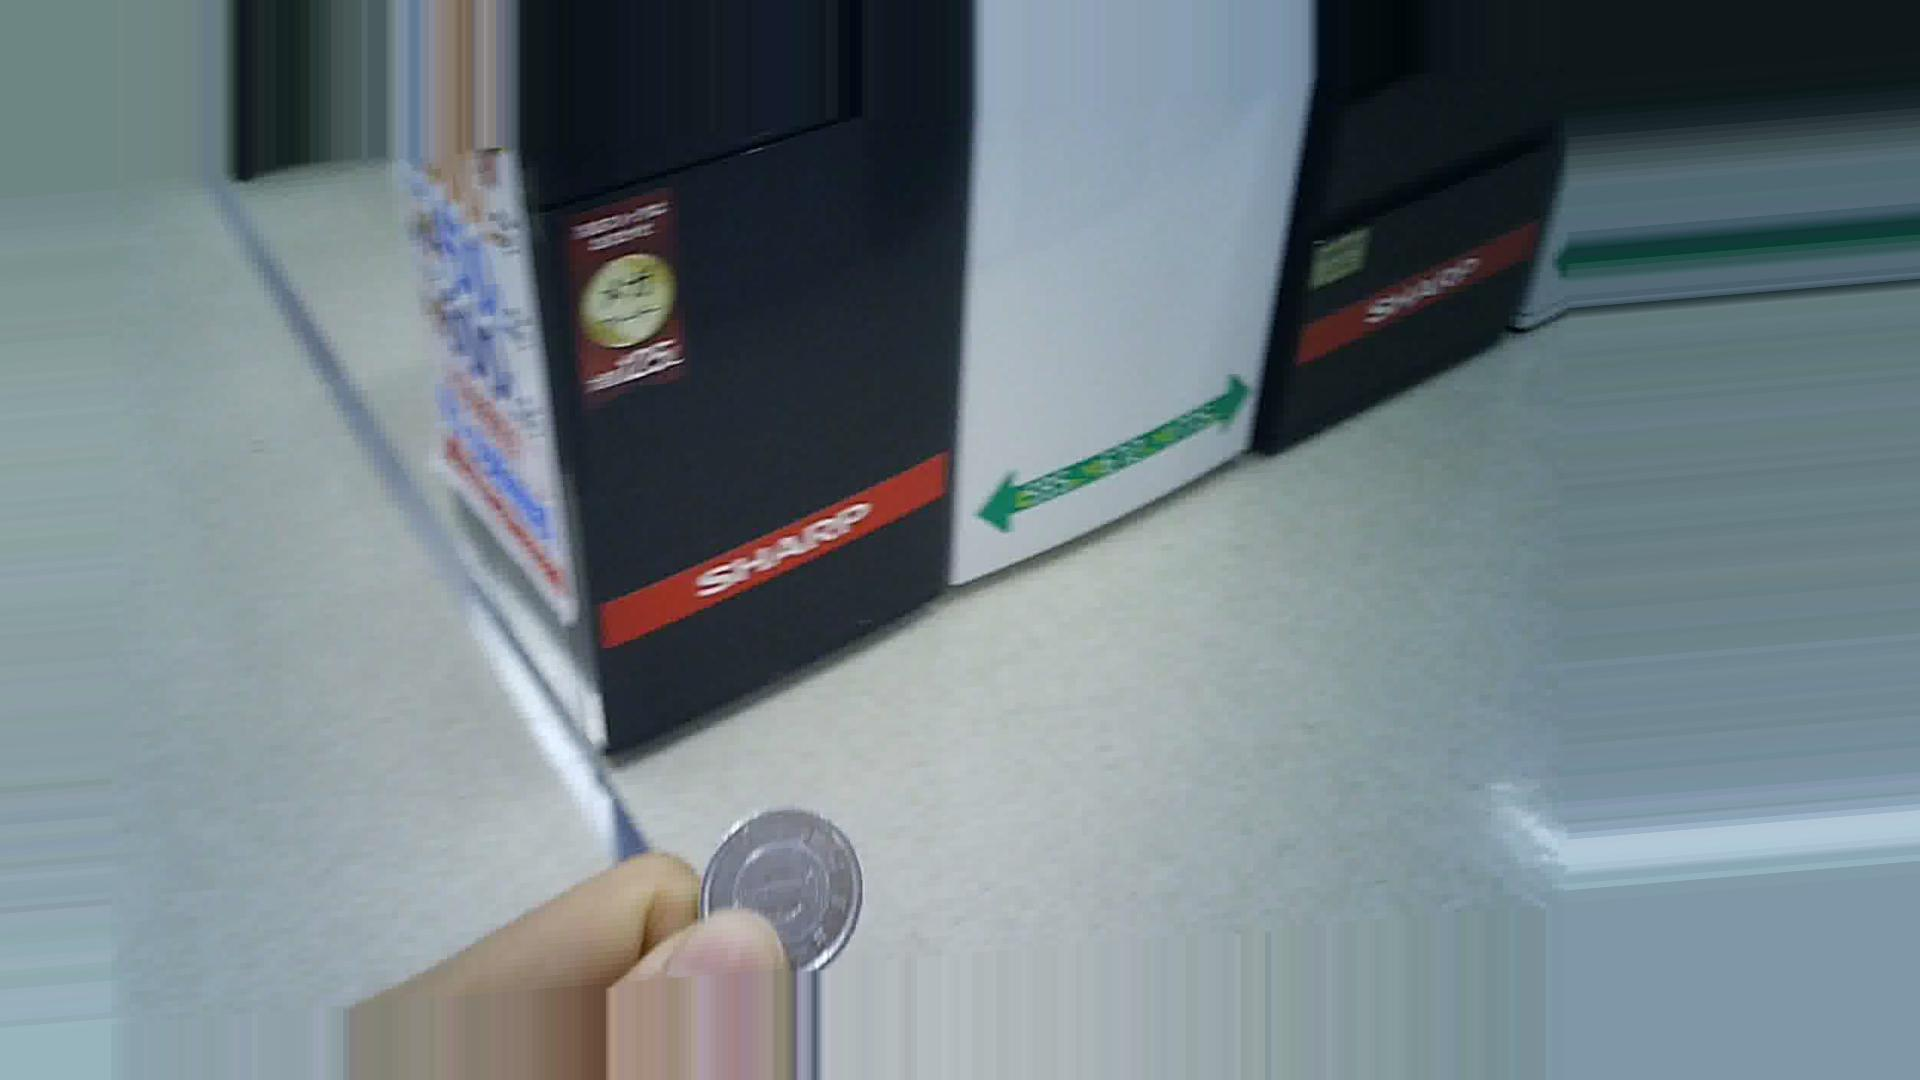1 Yen: (679, 811, 876, 978)
